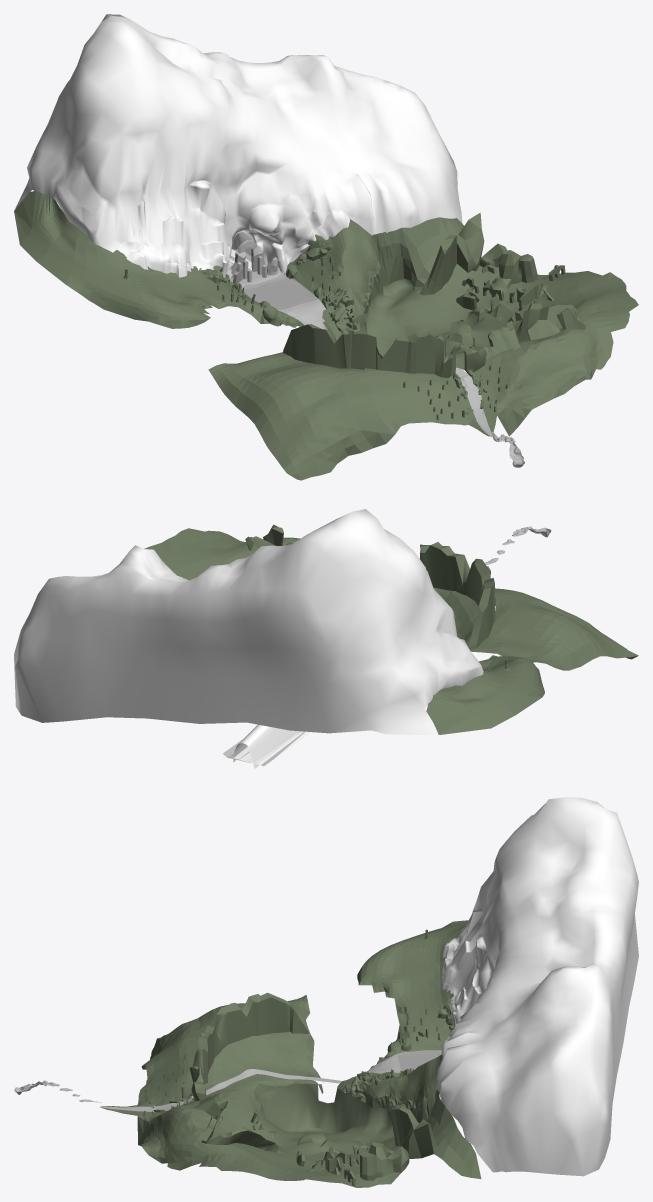
The picture shows the model from 3 angles, top to bottom: view 1: azimuth 30°, elevation 25°; view 2: azimuth 150°, elevation 25°; view 3: azimuth 270°, elevation 25°; orthographic projection. The views are drawn at different scales.
Parts seen in each view (by area): view 1: for_collision_mdl; view 2: for_collision_mdl; view 3: for_collision_mdl.
Part boxes in pixels (x1=…): for_collision_mdl: x1=14, y1=14, x2=638, y2=480; for_collision_mdl: x1=14, y1=509, x2=638, y2=768; for_collision_mdl: x1=14, y1=797, x2=638, y2=1187.
Size of the model in its own units: 45479 by 27821 by 55037.
